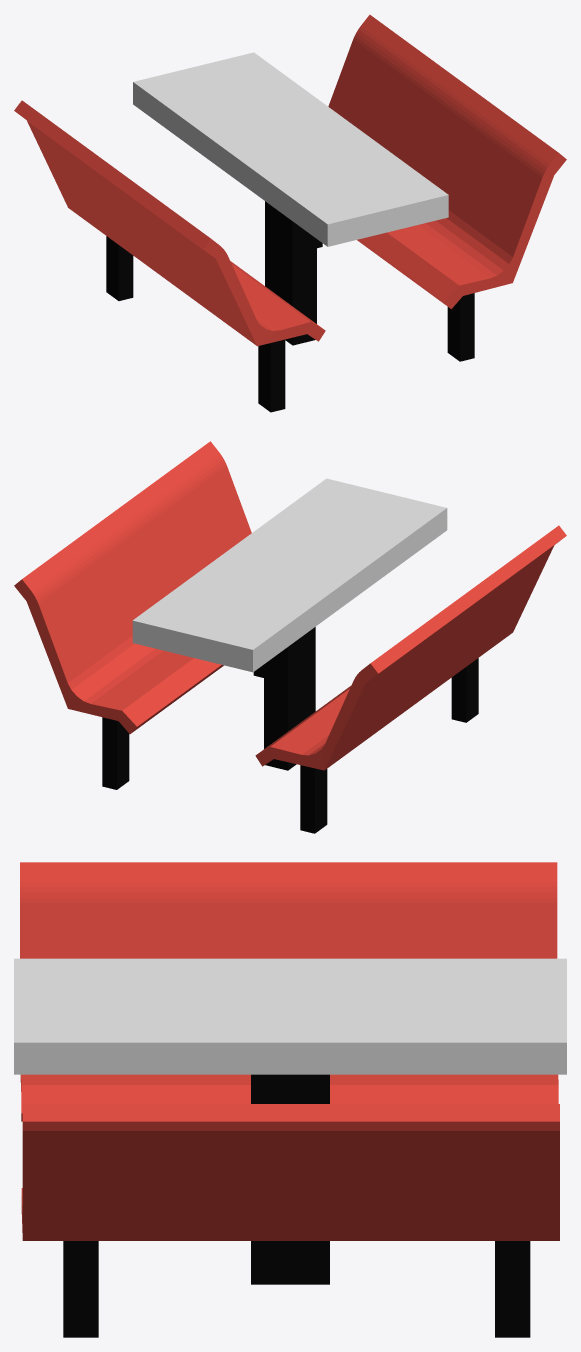
The model's file is mese.glb.
3 views of the same model, one above another, from view 1: azimuth 30°, elevation 25°; view 2: azimuth 150°, elevation 25°; view 3: azimuth 270°, elevation 25° (orthographic). The views are drawn at different scales.
Parts seen in each view (by area): view 1: Cube.009, Plane.001, Plane, Cube.007, Cube.010, Cube.008; view 2: Cube.009, Plane.001, Plane, Cube.011, Cube.008, Cube.007; view 3: Plane.001, Cube.009, Plane, Cube.010, Cube.011.
Boxes of the visible parts, box(x1,y1,x2,y2) form: Cube.009: box(133, 52, 448, 345); Plane.001: box(328, 14, 566, 308); Plane: box(14, 100, 325, 346); Cube.007: box(258, 339, 285, 412); Cube.010: box(447, 293, 474, 361); Cube.008: box(106, 236, 133, 300); Cube.009: box(132, 478, 447, 770); Plane.001: box(14, 441, 251, 733); Plane: box(255, 525, 566, 770); Cube.011: box(102, 717, 129, 789); Cube.008: box(300, 765, 327, 833); Cube.007: box(451, 658, 478, 722); Plane.001: box(21, 1104, 559, 1240); Cube.009: box(14, 958, 566, 1284); Plane: box(20, 862, 558, 1121); Cube.010: box(63, 1241, 98, 1337); Cube.011: box(495, 1241, 530, 1337).
Bounding box in the file's own units: 33.86 × 18.28 × 31.31.
